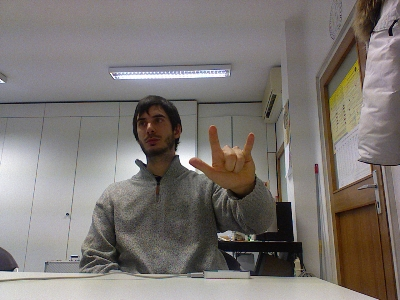我爱你: (187, 122, 257, 193)
